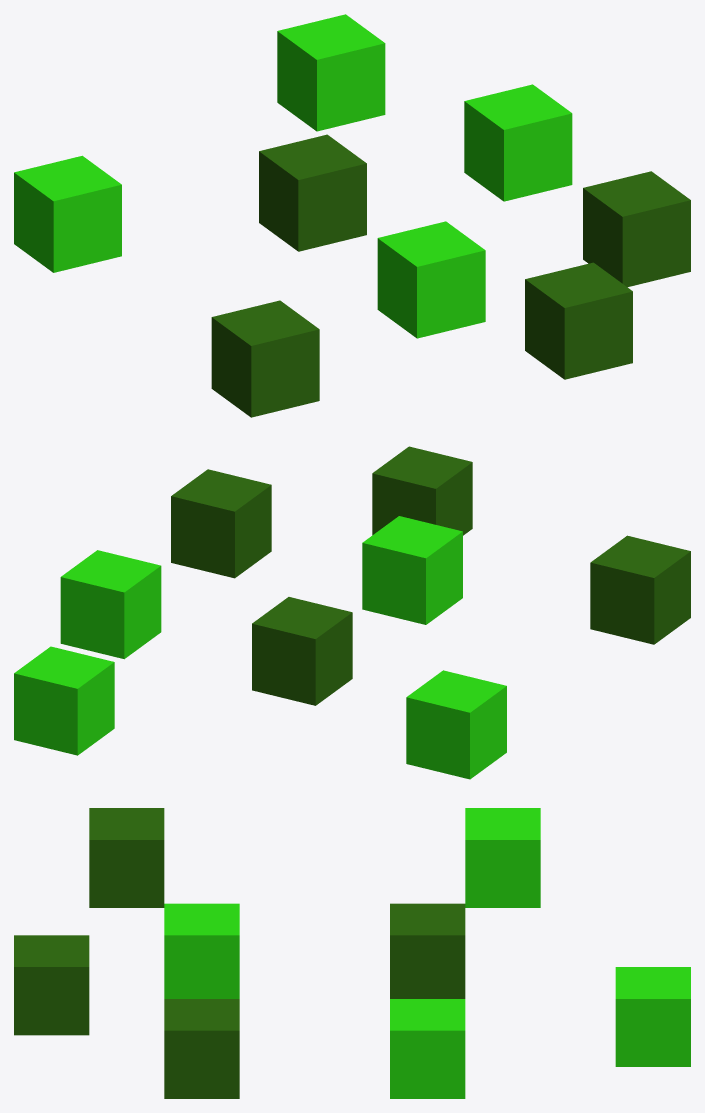
File: grassVox.obj
3 views of the same model, one above another, from view 1: azimuth 30°, elevation 25°; view 2: azimuth 150°, elevation 25°; view 3: azimuth 270°, elevation 25° (orthographic). The views are drawn at different scales.
Size of the model in its own units: 0.7 by 0.1 by 0.9.
Materials: 1 (1 with a texture image).
